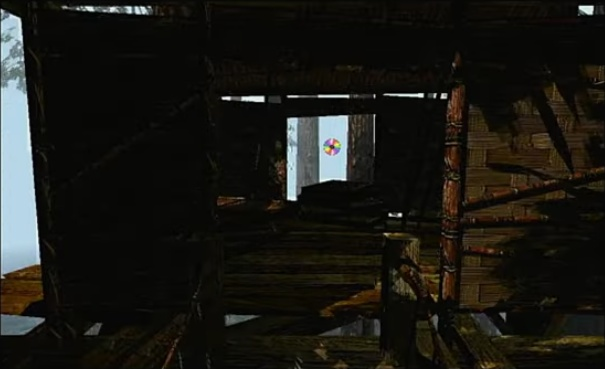Waiting: (321, 136, 343, 158)
